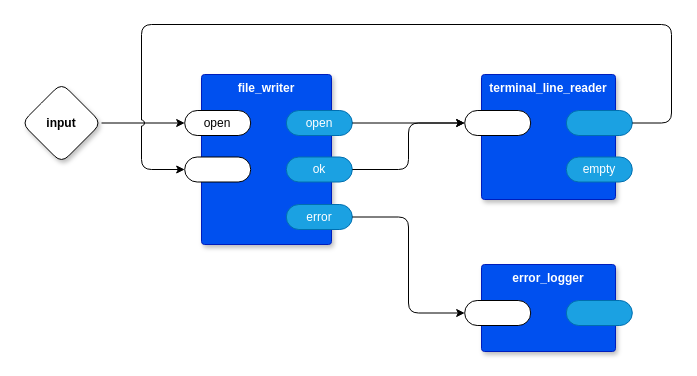
This 697x376 diagram has some shape labels left out. The centre of each missing label's shape, as x and y in pixels:
"file writer" goes at (x=497, y=313).
"line" goes at (x=598, y=123).
"output" goes at (x=598, y=313).
"read" goes at (x=497, y=123).
"write" goes at (x=217, y=169).
